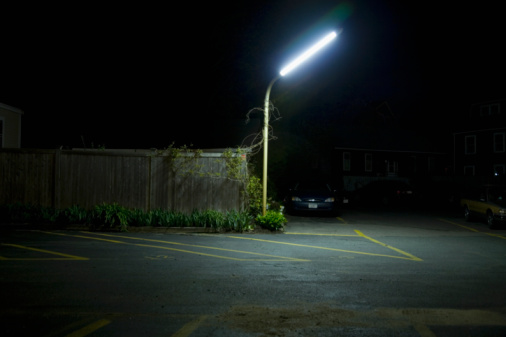car: (353, 176, 419, 208)
